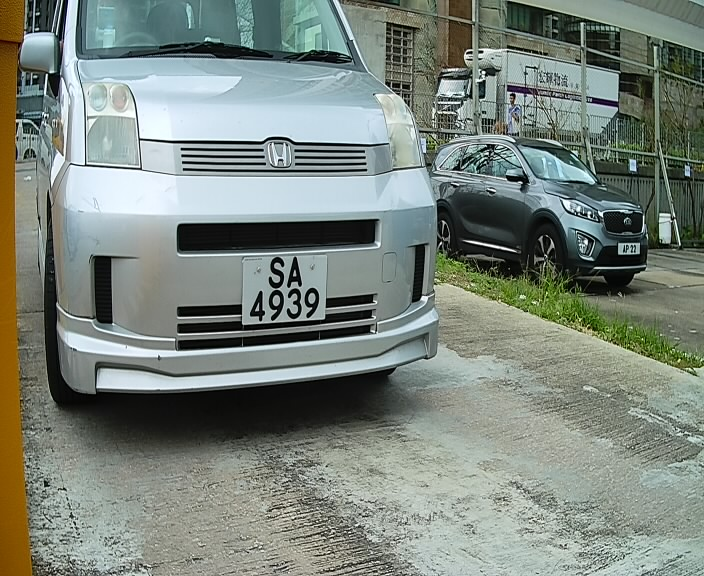License Plate: (239, 247, 340, 337)
